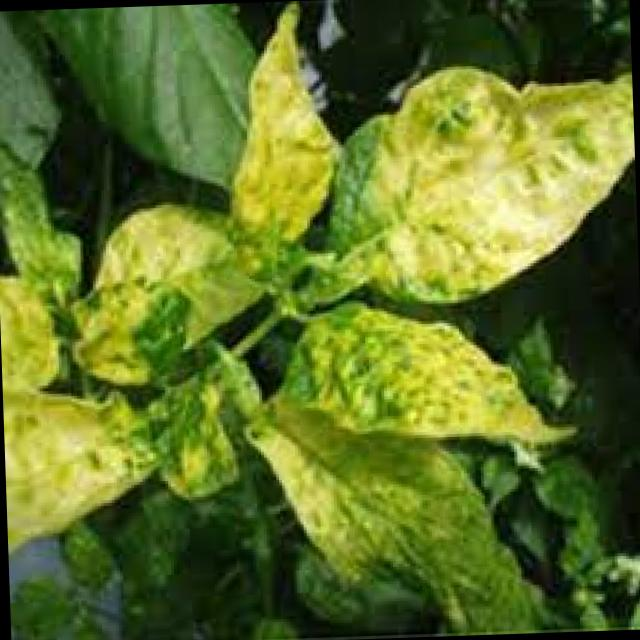Chilli_Leaf_Curl: (0, 0, 640, 640), (232, 292, 582, 638), (321, 55, 636, 308), (0, 259, 162, 569), (32, 2, 260, 195), (215, 0, 344, 250), (0, 9, 63, 176)
